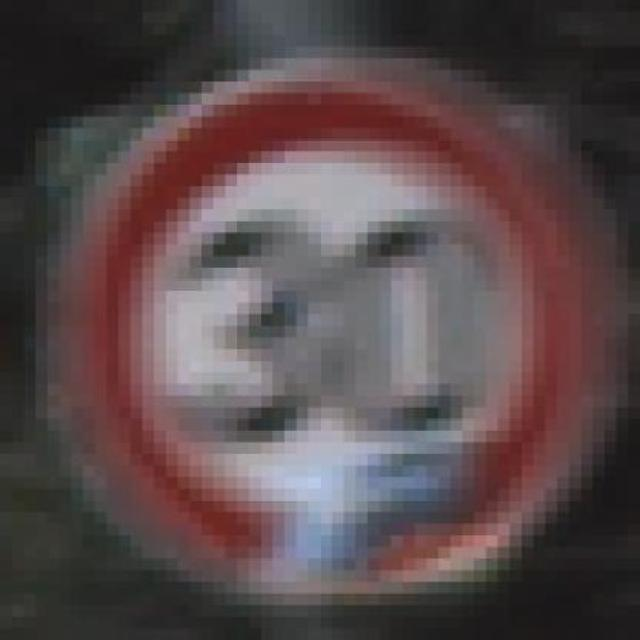Speed Limit 30 KMPh: (47, 34, 628, 628)
